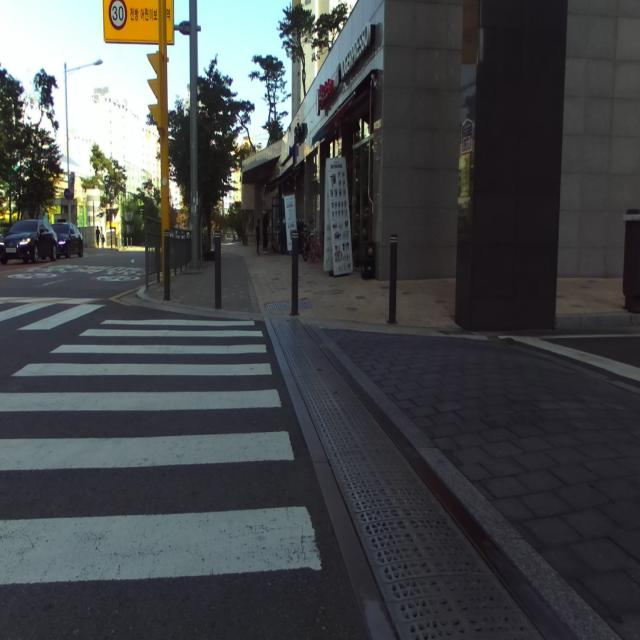횡단보도: (0, 320, 321, 585)
